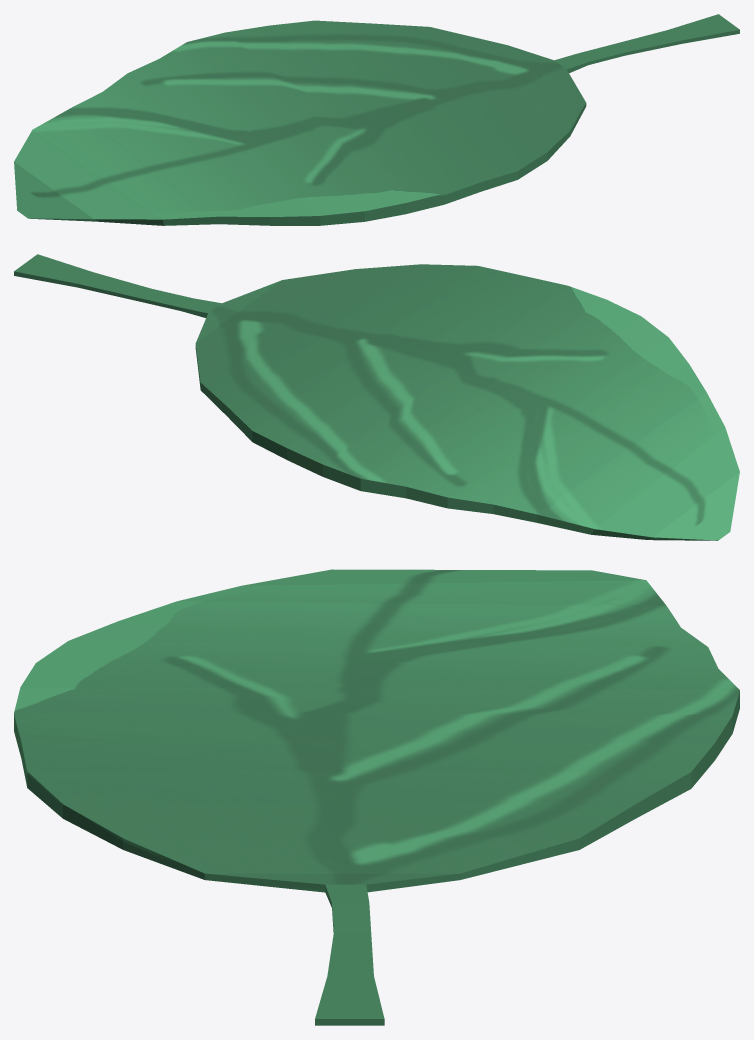
File: Basil.fbx
3 views of the same model, one above another, from view 1: azimuth 30°, elevation 25°; view 2: azimuth 150°, elevation 25°; view 3: azimuth 270°, elevation 25° (orthographic). The views are drawn at different scales.
Parts seen in each view (by area): view 1: Cube; view 2: Cube; view 3: Cube.
Part boxes in pixels (bbox=[...]): Cube: bbox=[14, 14, 739, 225]; Cube: bbox=[14, 254, 739, 540]; Cube: bbox=[14, 569, 739, 1025].
Size of the model in its own units: 300 by 24.7 by 173.
1 material, 1 textured.
